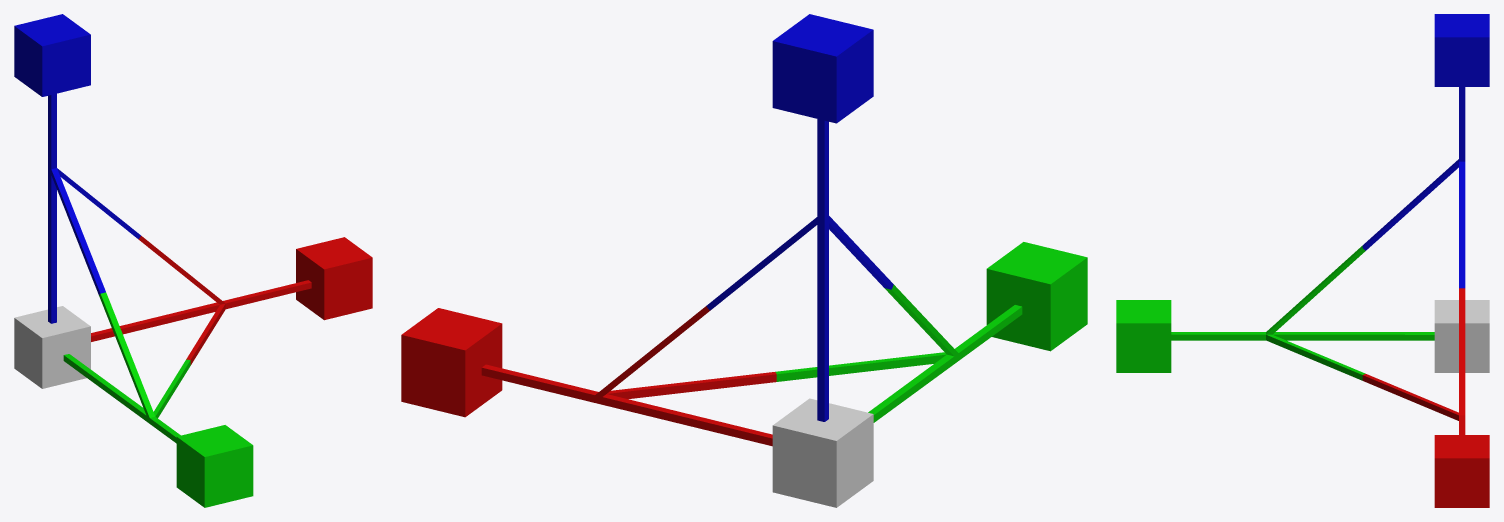
File: SM_Gizmo_Scale.FBX
3 renders of one model, left to right at view 1: azimuth 30°, elevation 25°; view 2: azimuth 150°, elevation 25°; view 3: azimuth 270°, elevation 25°, orthographic. The views are drawn at different scales.
Visible parts, largest first — view 1: SM_Gizmo_Scale; view 2: SM_Gizmo_Scale; view 3: SM_Gizmo_Scale.
Part boxes in pixels (<box>): SM_Gizmo_Scale: <box>14,14,372,507</box>; SM_Gizmo_Scale: <box>401,14,1087,507</box>; SM_Gizmo_Scale: <box>1116,14,1489,507</box>.
Size of the model in its own units: 73.12 by 73.01 by 72.45.
